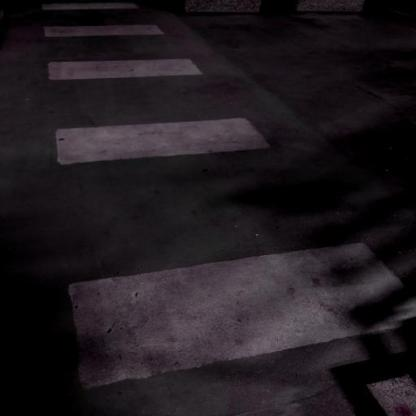crosswalk: (34, 52, 289, 176)
